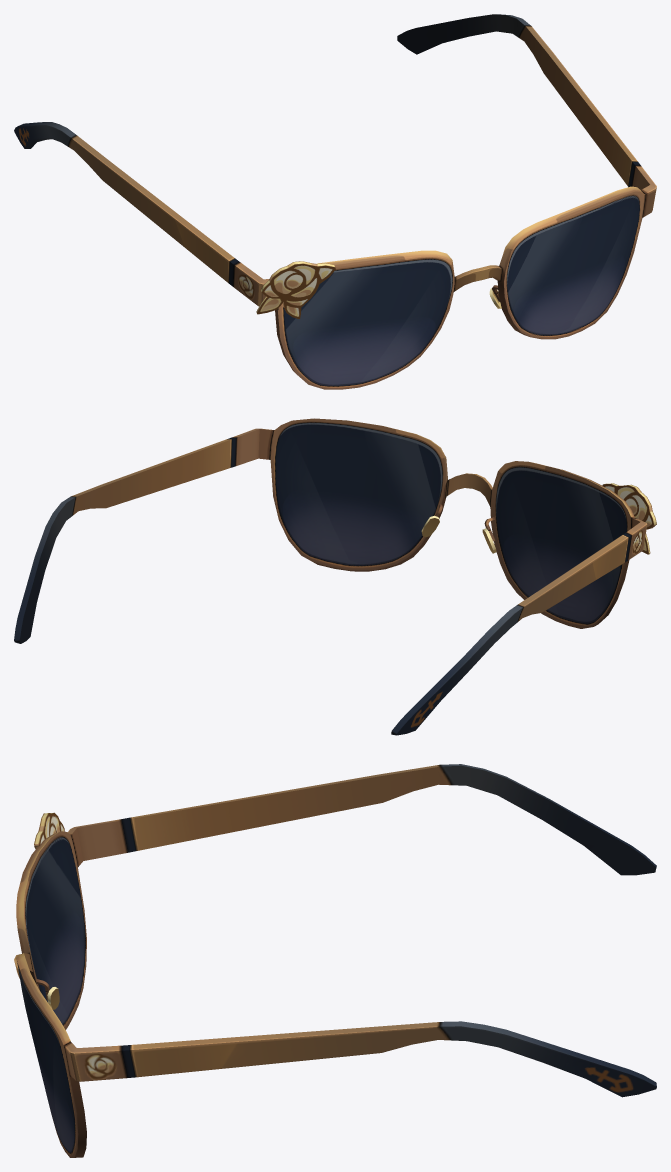
The model's file is Sunglasses.glb.
3 renders of one model, top to bottom at view 1: azimuth 30°, elevation 25°; view 2: azimuth 150°, elevation 25°; view 3: azimuth 270°, elevation 25°, orthographic. The views are drawn at different scales.
Parts seen in each view (by area): view 1: SkillObj_Navia_Sunglasses_LOD0; view 2: SkillObj_Navia_Sunglasses_LOD0; view 3: SkillObj_Navia_Sunglasses_LOD0.
Boxes of the visible parts, left/top/right/bottom form: SkillObj_Navia_Sunglasses_LOD0: left=14, top=14, right=656, bottom=389; SkillObj_Navia_Sunglasses_LOD0: left=14, top=418, right=656, bottom=735; SkillObj_Navia_Sunglasses_LOD0: left=14, top=764, right=656, bottom=1157.
Bounding box in the file's own units: 0.1737 × 0.0588 × 0.18.
Materials: 1 (1 with a texture image).
